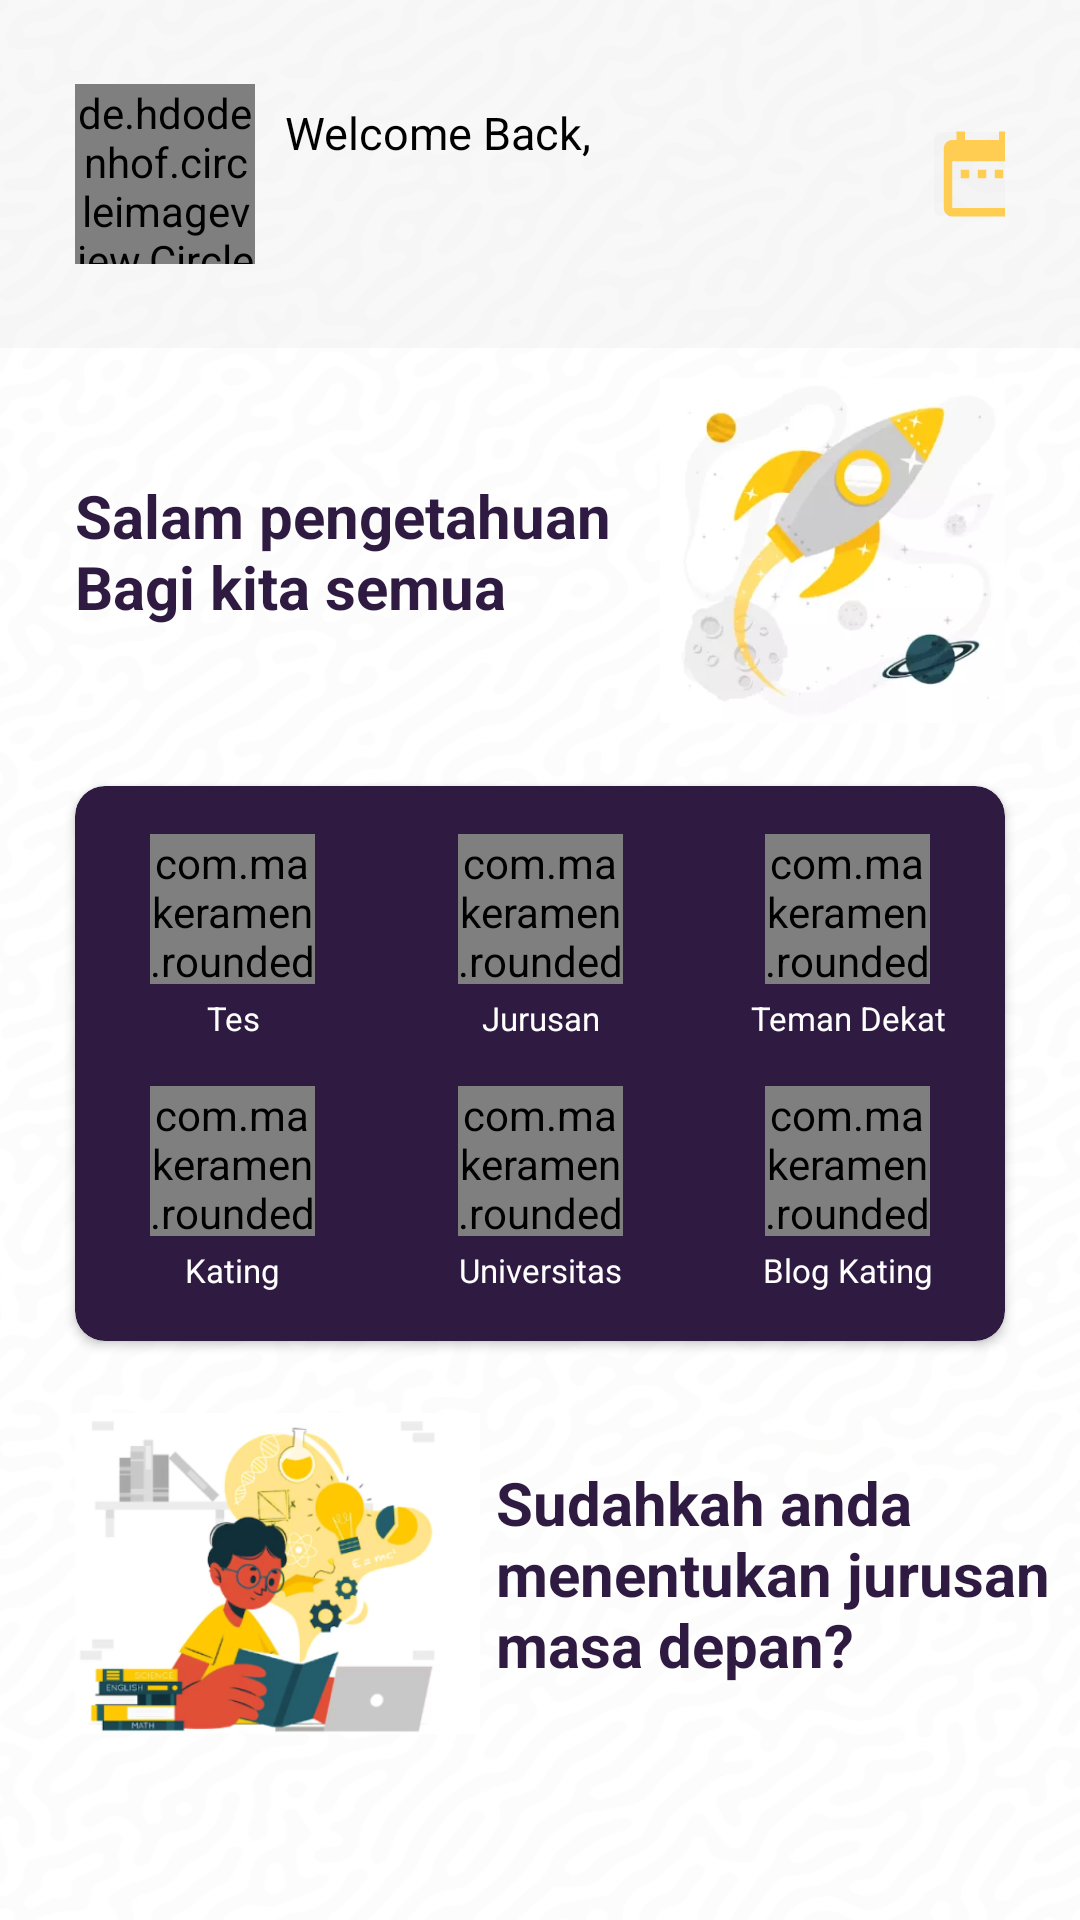

Where icons sit on this 1080*1920 app screen, as (x1,y1,x2,y2):
Calendar: (943,131,1005,217)
